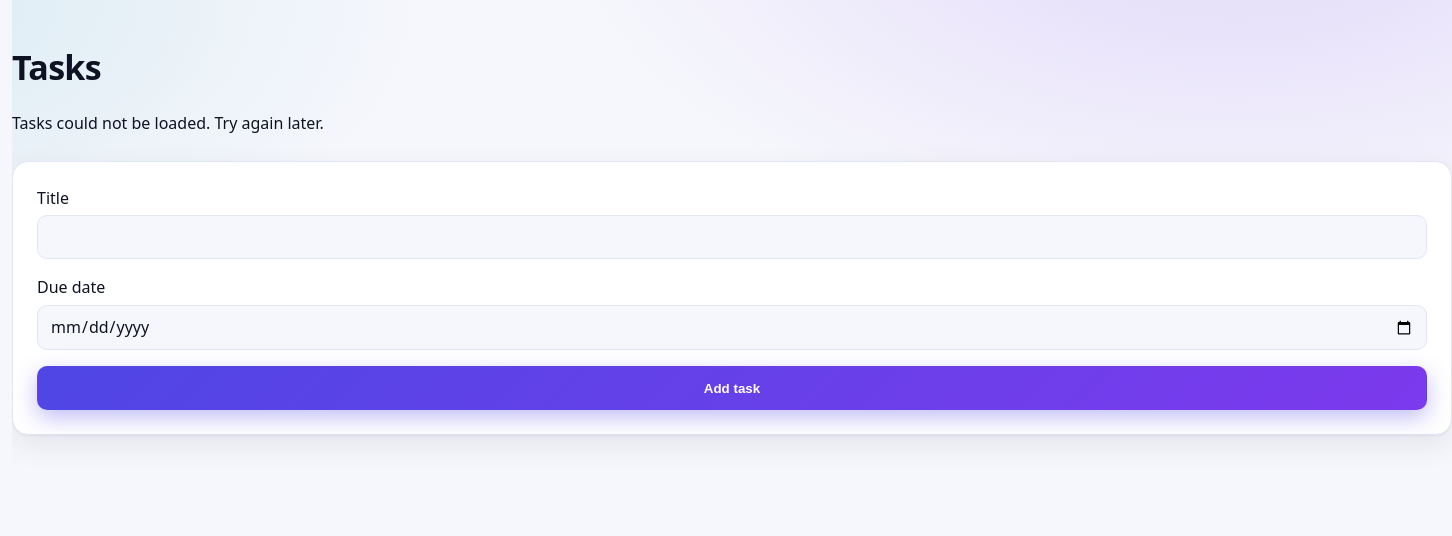
Test case: task board interactions › appends a created task below the load error
Type "Buy milk" into the field labelled "Title" at {"x": 732, "y": 237}, box [37, 215, 1427, 259]
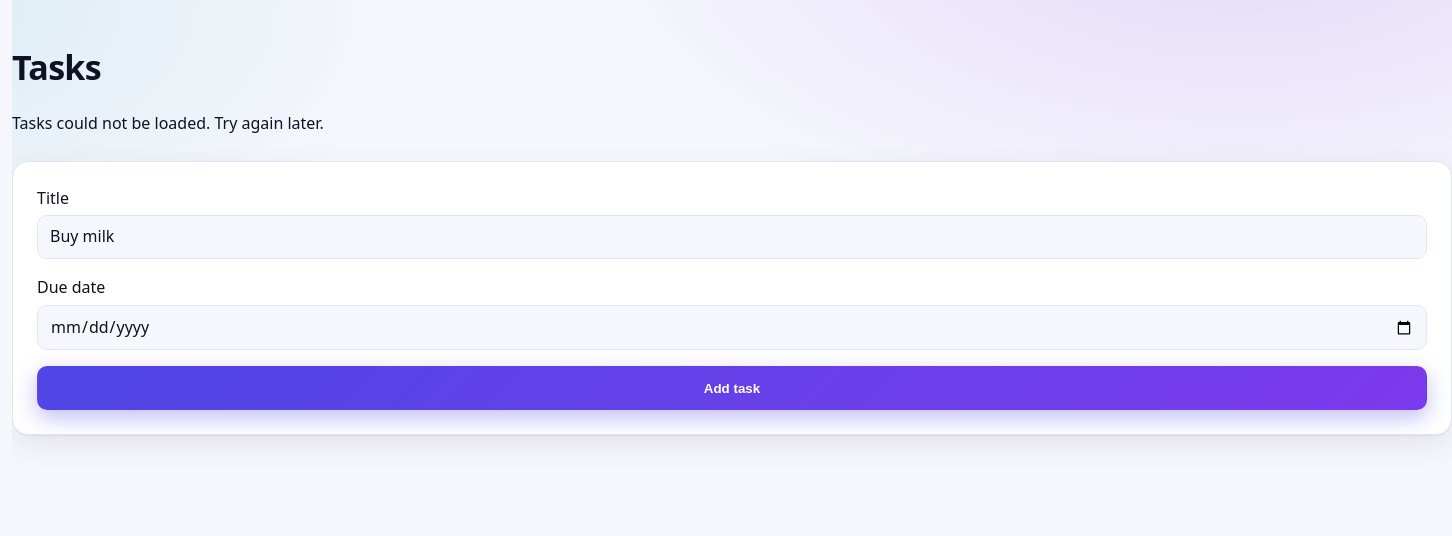
Click the button "Add task" at {"x": 732, "y": 388}, box [37, 366, 1427, 410]
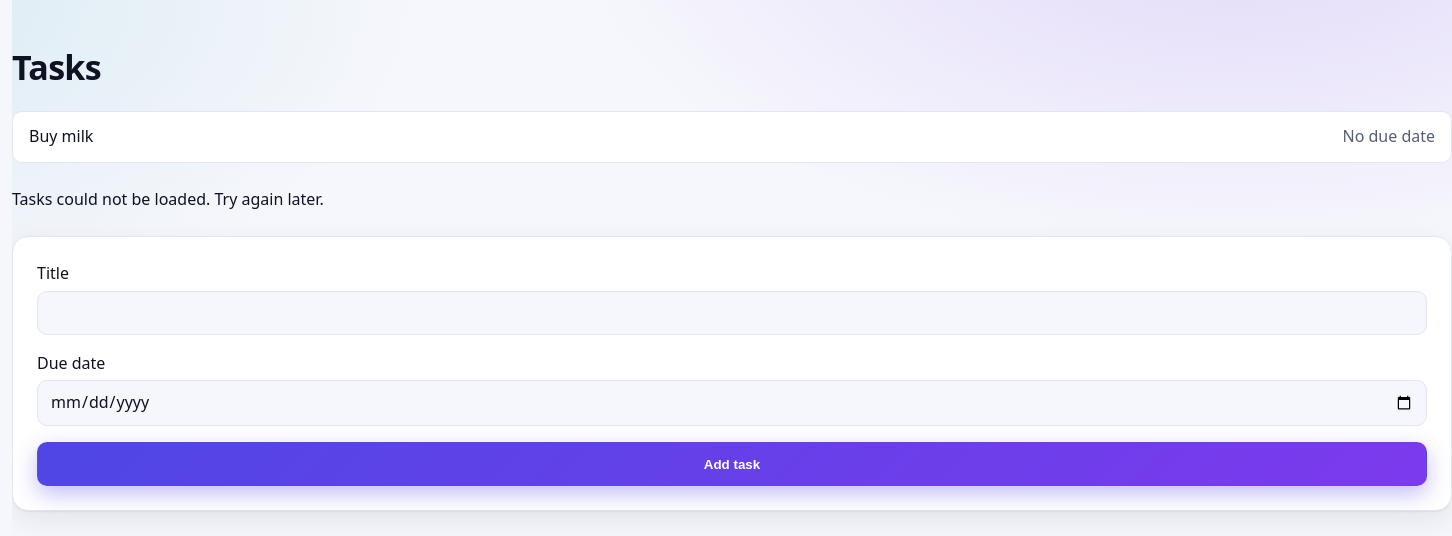
Expected: the text "Tasks could not be loaded. Try again later." is shown, [12, 188, 324, 210]
Now the list named "Tasks" is shown, box [12, 111, 1451, 163]
